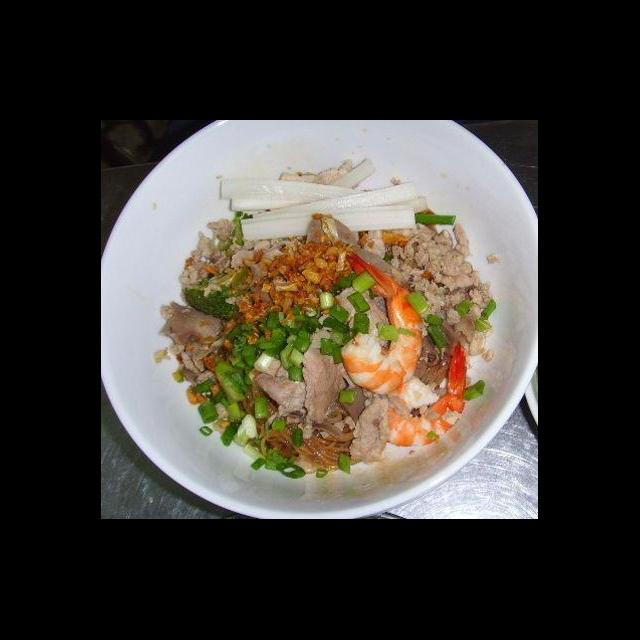gan: (248, 312, 358, 432), (158, 294, 232, 392)
thit bam: (386, 214, 510, 368), (172, 205, 308, 292)
tom: (336, 247, 429, 402), (370, 337, 474, 452)
